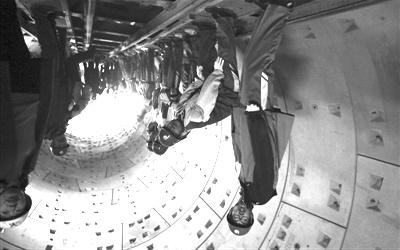helmet: (1, 189, 33, 230), (227, 200, 254, 236), (158, 118, 184, 147), (49, 133, 70, 156), (152, 134, 168, 155), (146, 130, 158, 151)
